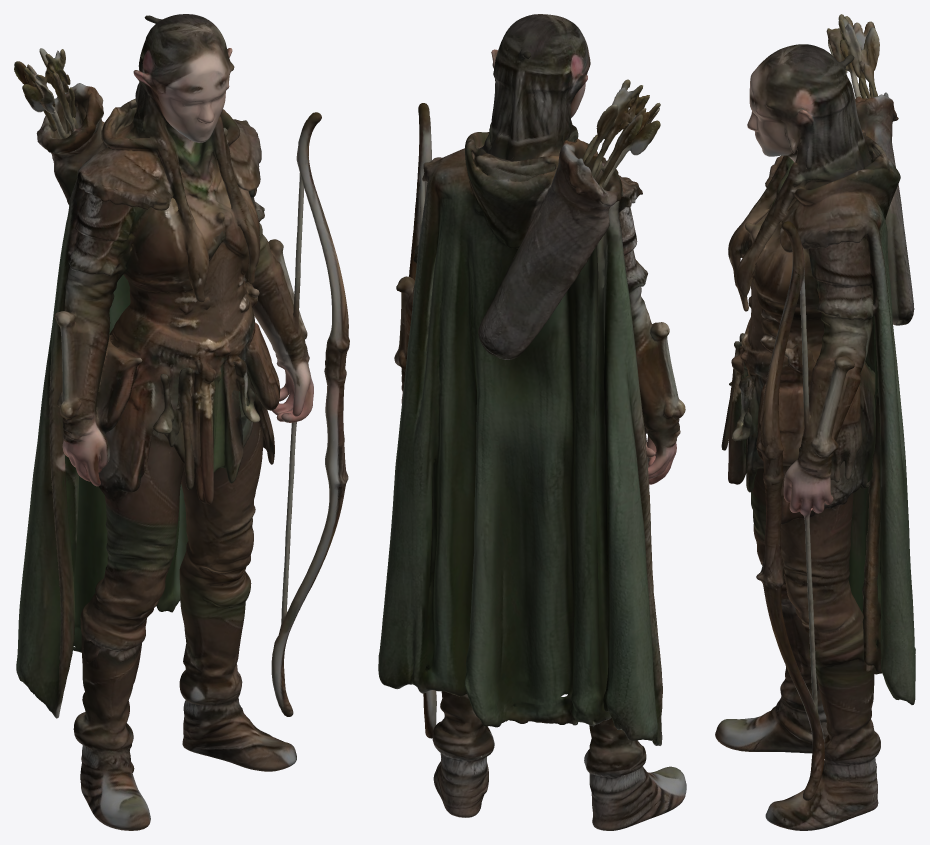
3 views of the same model, side by side, from view 1: azimuth 30°, elevation 25°; view 2: azimuth 150°, elevation 25°; view 3: azimuth 270°, elevation 25° (orthographic). The views are drawn at different scales.
Parts seen in each view (by area): view 1: tripo_node_3036e3b6-7f9a-425a-9324-d930c4d3205d; view 2: tripo_node_3036e3b6-7f9a-425a-9324-d930c4d3205d; view 3: tripo_node_3036e3b6-7f9a-425a-9324-d930c4d3205d.
Boxes of the visible parts, box(x1,y1,x2,y2) form: tripo_node_3036e3b6-7f9a-425a-9324-d930c4d3205d: box(14, 14, 349, 830); tripo_node_3036e3b6-7f9a-425a-9324-d930c4d3205d: box(378, 14, 686, 830); tripo_node_3036e3b6-7f9a-425a-9324-d930c4d3205d: box(715, 14, 915, 830).
Bounding box in the file's own units: 0.3942 × 1 × 0.2473.
1 material, 1 textured.
